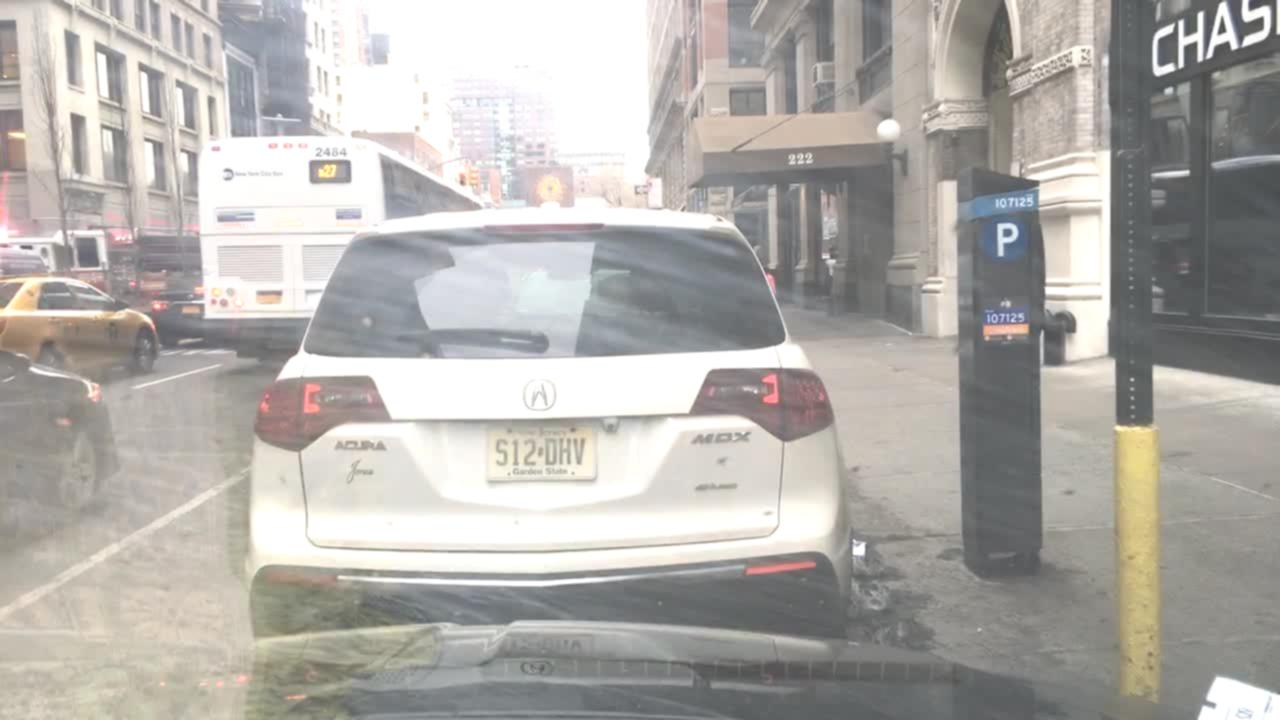acura: (511, 361, 581, 427)
